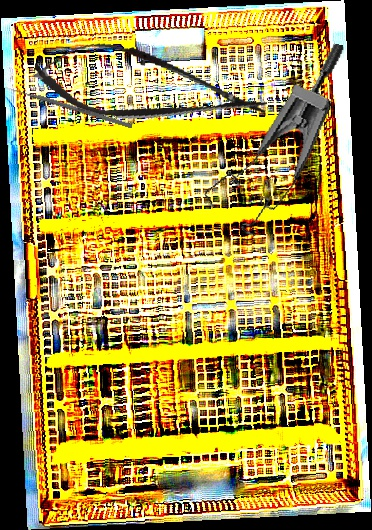Micro Scissor: (28, 30, 273, 144)
Pusher: (3, 84, 133, 129)
Speculum: (197, 21, 347, 247)
